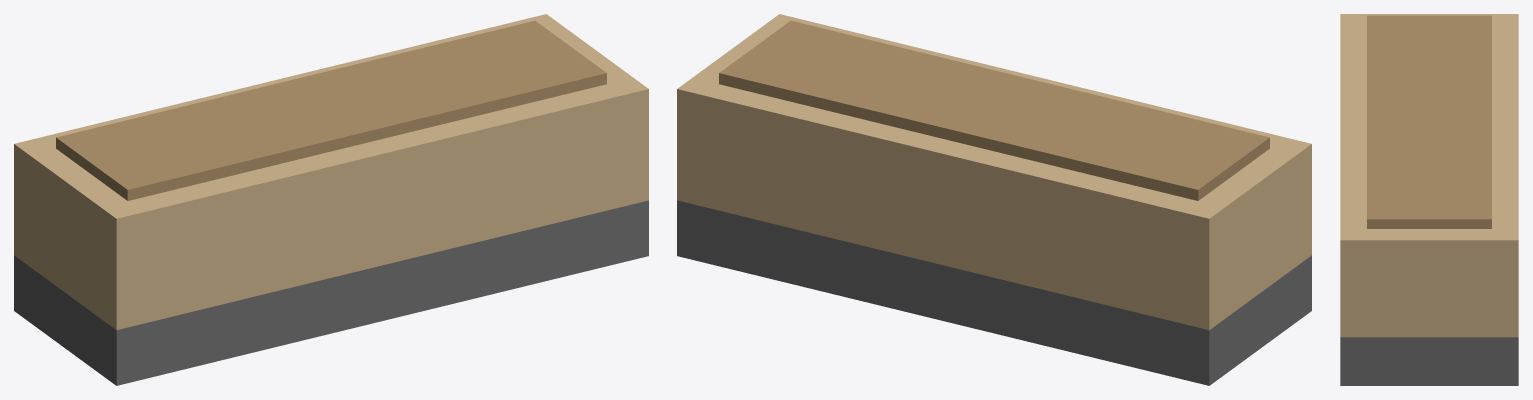
Rendered from penghapus.glb.
3 views of the same model, side by side, from view 1: azimuth 30°, elevation 25°; view 2: azimuth 150°, elevation 25°; view 3: azimuth 270°, elevation 25° (orthographic). The views are drawn at different scales.
Visible parts, largest first — view 1: penghapus_Mesh; view 2: penghapus_Mesh; view 3: penghapus_Mesh.
Boxes of the visible parts, x1,y1,x2,y2 form: penghapus_Mesh: [14, 14, 648, 385]; penghapus_Mesh: [677, 14, 1311, 385]; penghapus_Mesh: [1340, 14, 1518, 385].
Size of the model in its own units: 0.3 by 0.108 by 0.1.
